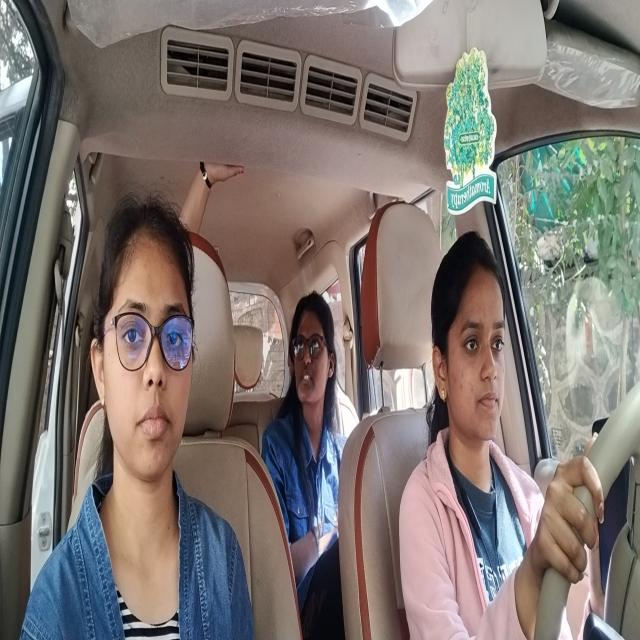person: (88, 192, 202, 493), (428, 234, 509, 450), (285, 285, 335, 408)
